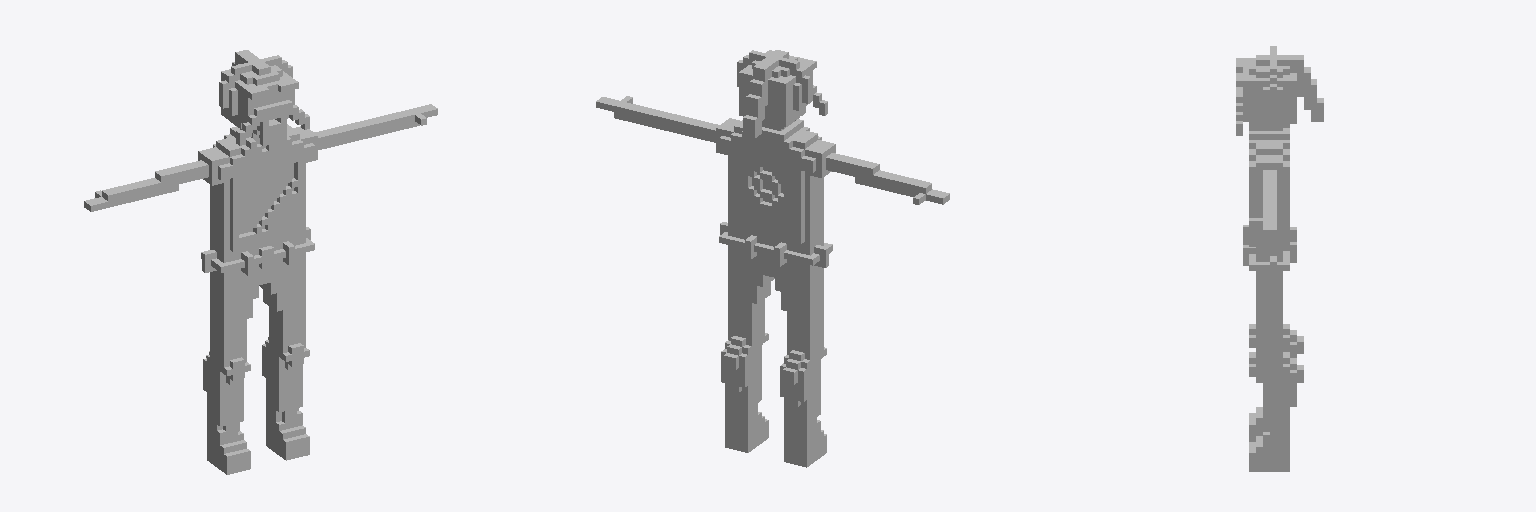
The model's file is pl 1 anim 2.obj.
3 renders of one model, left to right at view 1: azimuth 30°, elevation 25°; view 2: azimuth 150°, elevation 25°; view 3: azimuth 270°, elevation 25°, orthographic.
Parts seen in each view (by area): view 1: object 1; view 2: object 1; view 3: object 1.
Part boxes in pixels (x1,y1,x2,y2): object 1: (84,50,437,474); object 1: (596,50,949,467); object 1: (1236,46,1323,471).
Size of the model in its own units: 5.9 by 6.4 by 1.3.